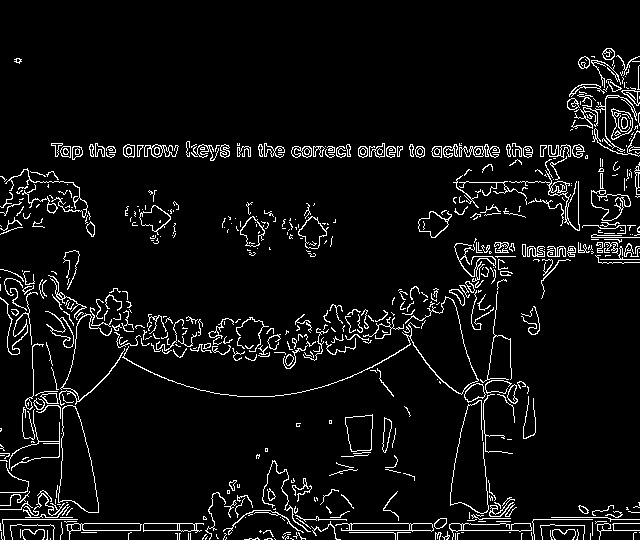right: (129, 198, 184, 242), (413, 204, 452, 242)
up: (234, 209, 272, 256), (292, 208, 332, 252)
